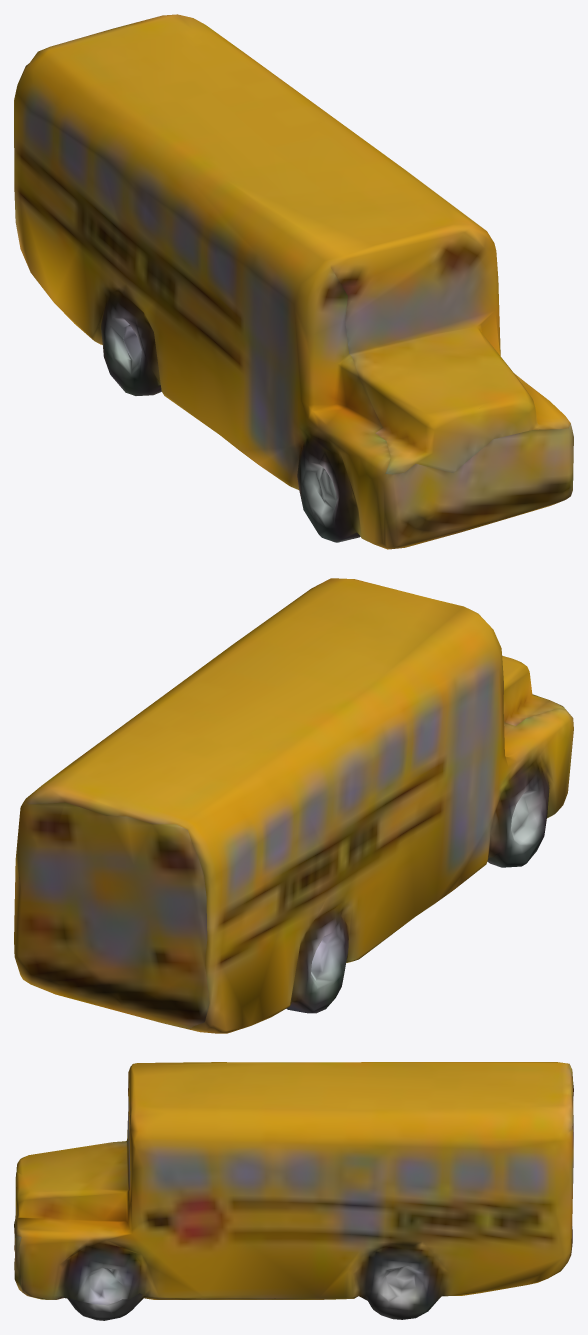
Rendered from SCHOOL_BUS-medium.glb.
3 views of the same model, one above another, from view 1: azimuth 30°, elevation 25°; view 2: azimuth 150°, elevation 25°; view 3: azimuth 270°, elevation 25° (orthographic). The views are drawn at different scales.
Parts seen in each view (by area): view 1: SCHOOL_BUS; view 2: SCHOOL_BUS; view 3: SCHOOL_BUS.
Boxes of the visible parts, <box> form: SCHOOL_BUS: <box>14,14,573,549</box>; SCHOOL_BUS: <box>14,578,573,1033</box>; SCHOOL_BUS: <box>14,1062,573,1320</box>.
Bounding box in the file's own units: 0.0318 × 0.0382 × 0.0978.
1 material, 1 textured.
